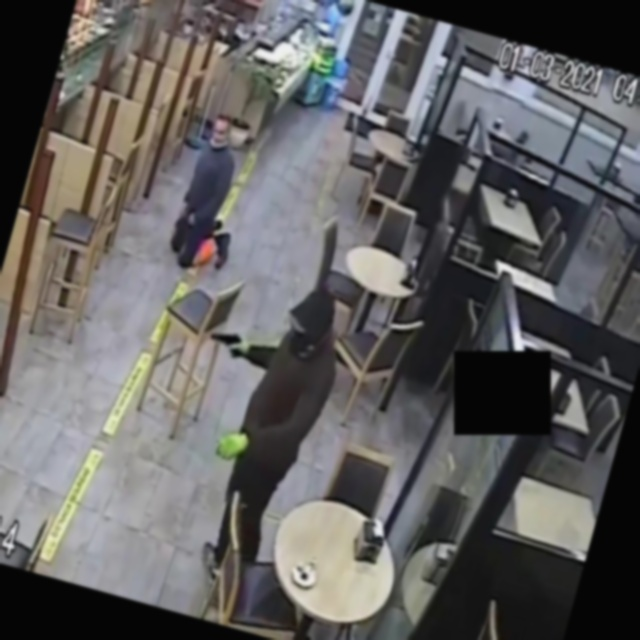gun: (192, 308, 260, 377)
